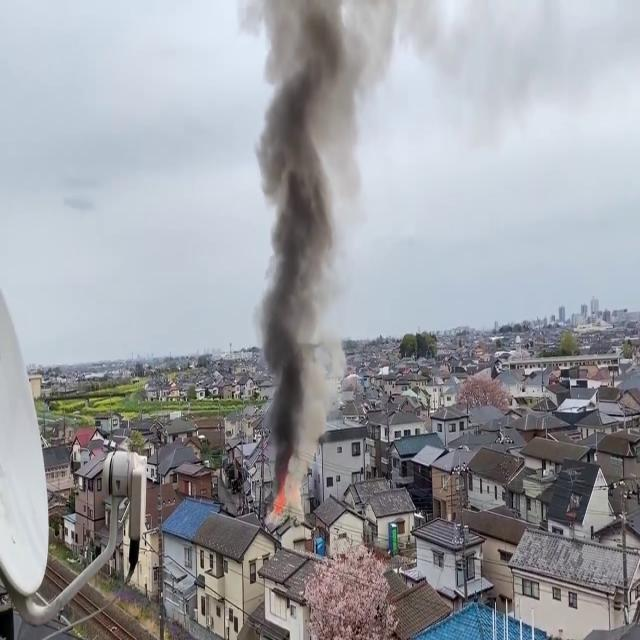Smoke: (251, 0, 371, 494)
